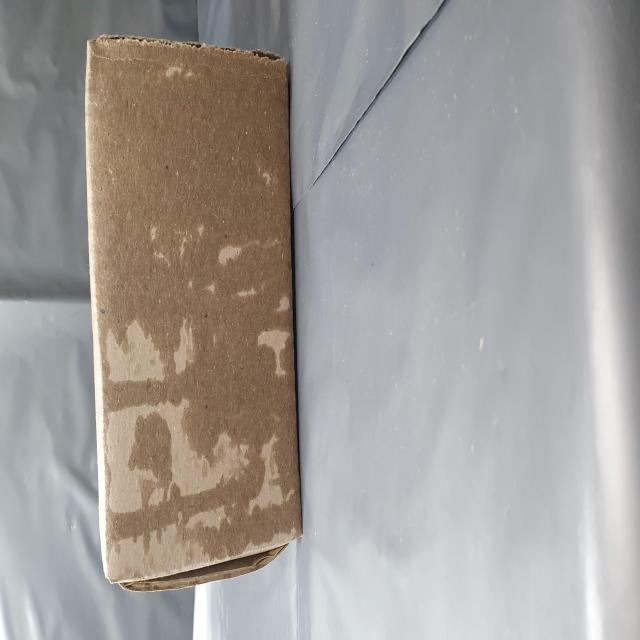wet: (31, 158, 337, 540)
